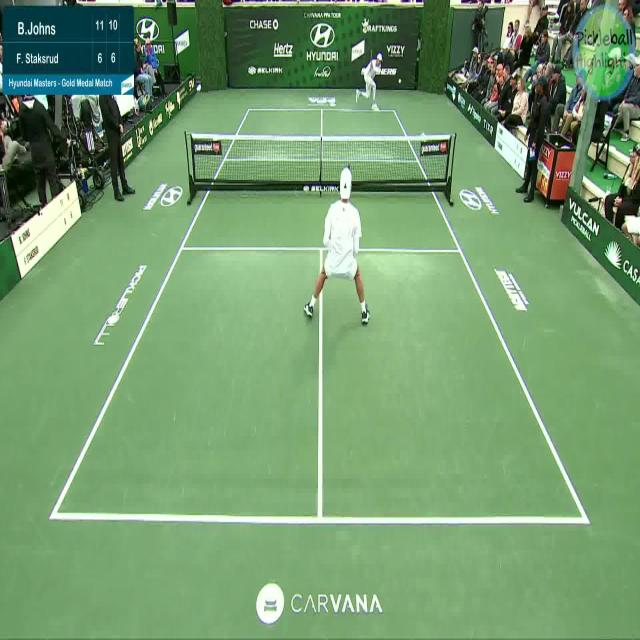ball: (397, 77, 401, 83)
